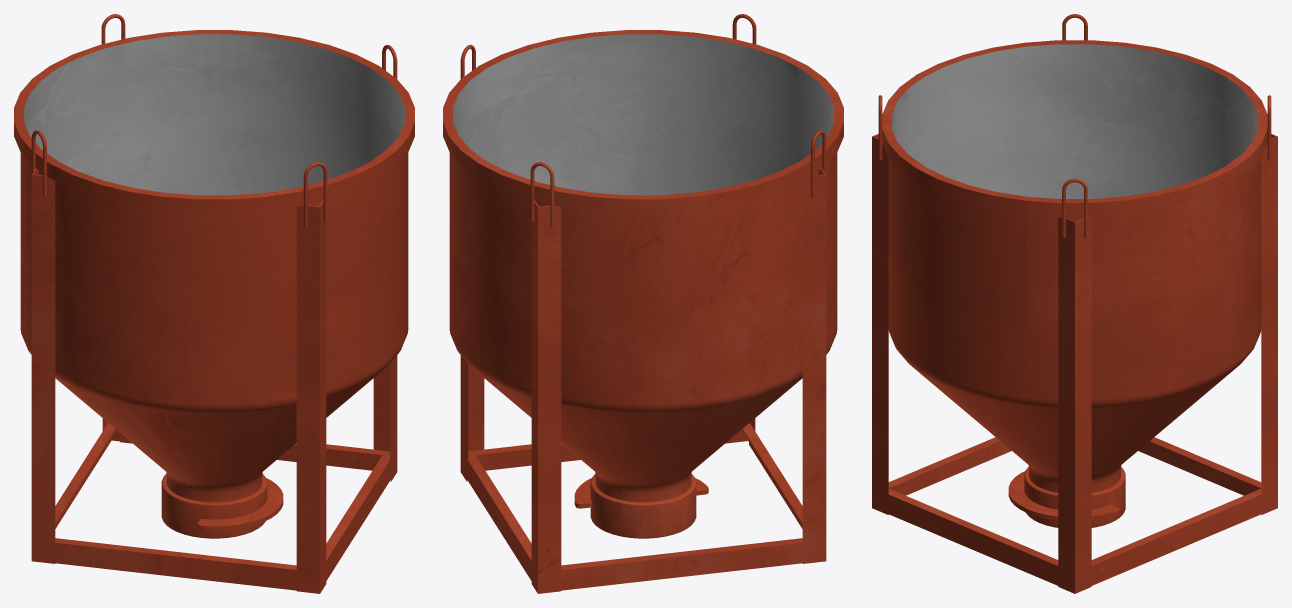
The model's file is liaodou.FBX.
3 renders of one model, left to right at view 1: azimuth 30°, elevation 25°; view 2: azimuth 150°, elevation 25°; view 3: azimuth 270°, elevation 25°, orthographic. The views are drawn at different scales.
Parts seen in each view (by area): view 1: liaodou; view 2: liaodou; view 3: liaodou.
Boxes of the visible parts, left/top/right/bottom form: liaodou: left=14, top=14, right=414, bottom=593; liaodou: left=443, top=14, right=843, bottom=593; liaodou: left=872, top=14, right=1277, bottom=593.
Size of the model in its own units: 130 by 146 by 130.
2 materials, 2 textured.
